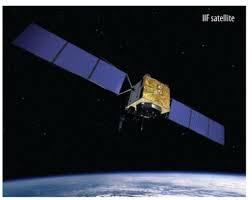body: (125, 71, 172, 123)
solar: (9, 20, 129, 96), (166, 97, 227, 147)
